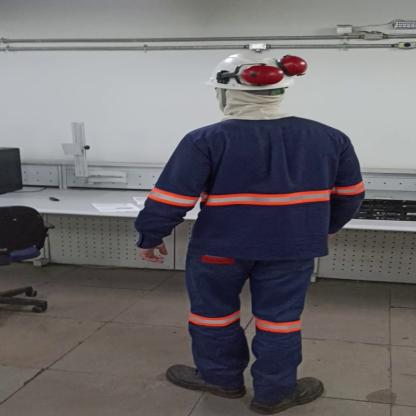Balaclava: (213, 87, 299, 122)
Capacete: (201, 51, 311, 92)
